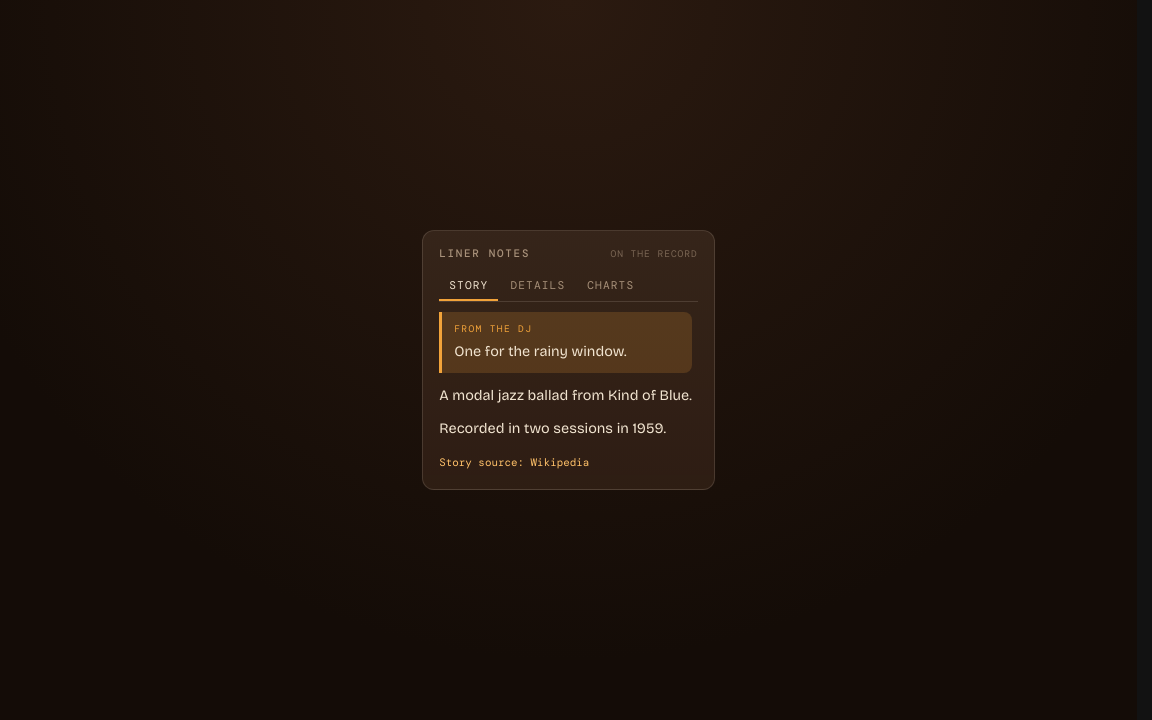
Test case: LinerNotes › switches to the chart history tab
The width and height of the screenshot is (1152, 720).
Click the tab "Charts" at (611, 286), box [577,271,644,301]
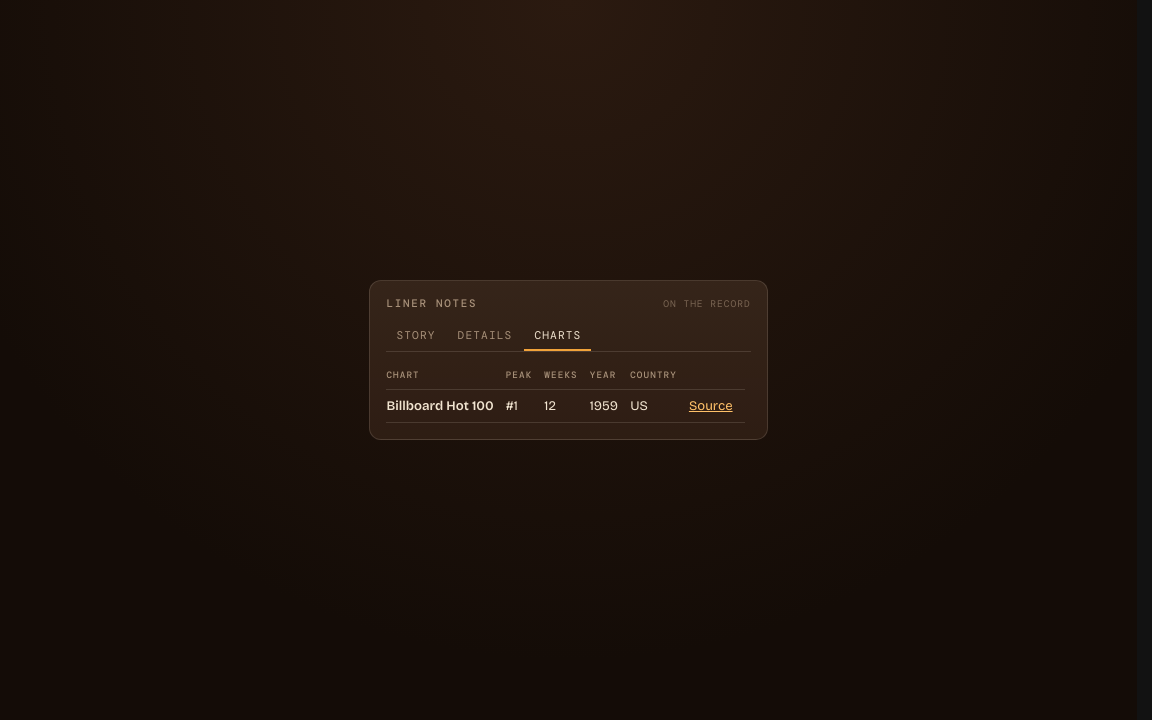
Expected: the column heading "Billboard Hot 100" is shown, [386,389,506,422]
Expected: the column heading "Peak" is shown, [506,362,544,389]
